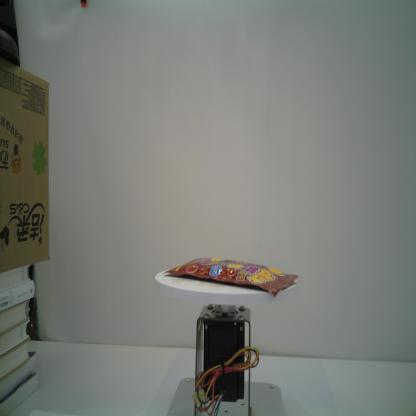Candy: (162, 258, 299, 298)
